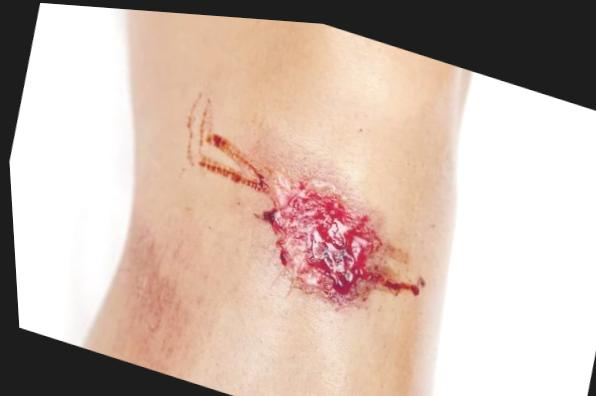Fire: (185, 90, 423, 303)
